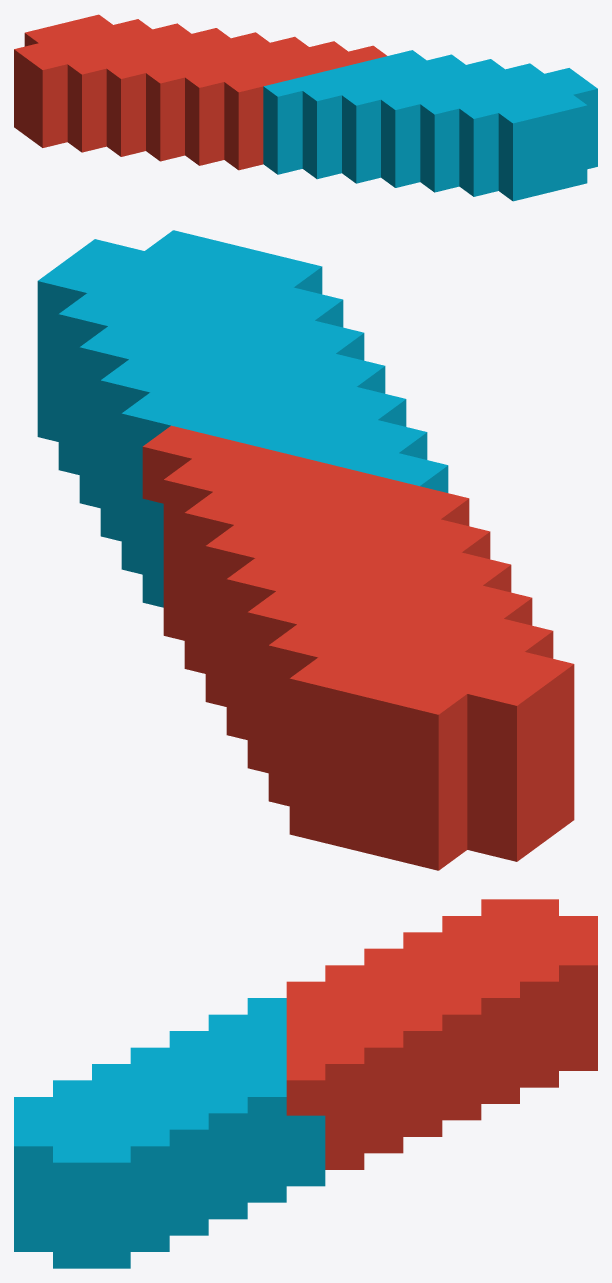
Rendered from Eruption-20.obj.
The picture shows the model from 3 angles, top to bottom: view 1: azimuth 30°, elevation 25°; view 2: azimuth 150°, elevation 25°; view 3: azimuth 270°, elevation 25°; orthographic projection. The views are drawn at different scales.
Size of the model in its own units: 1.6 by 0.3 by 1.5.
Materials: 1 (1 with a texture image).
